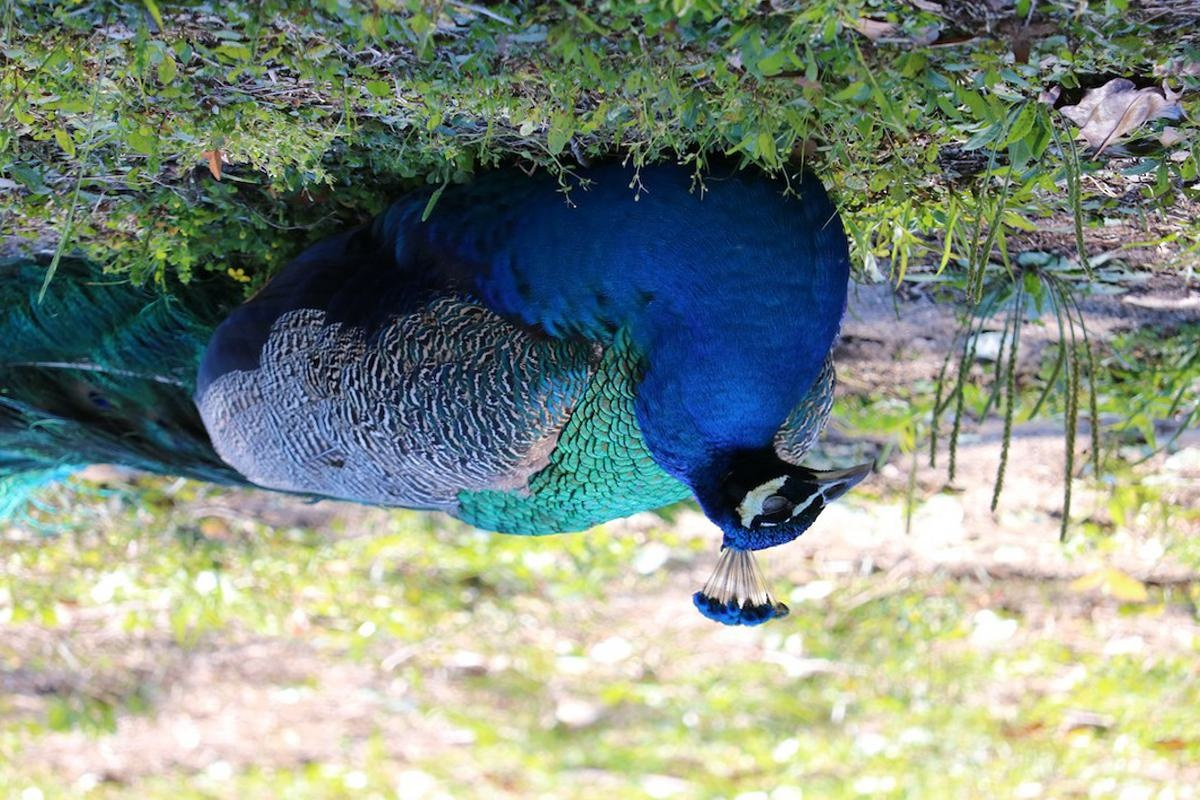peacock: (214, 166, 955, 628)
